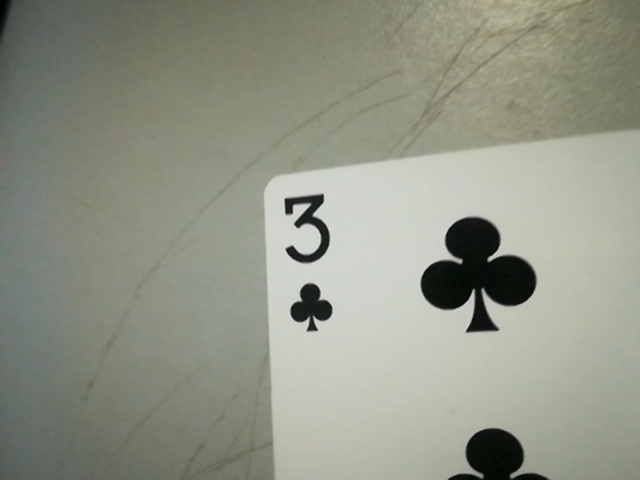mh 3: (269, 179, 346, 342)
